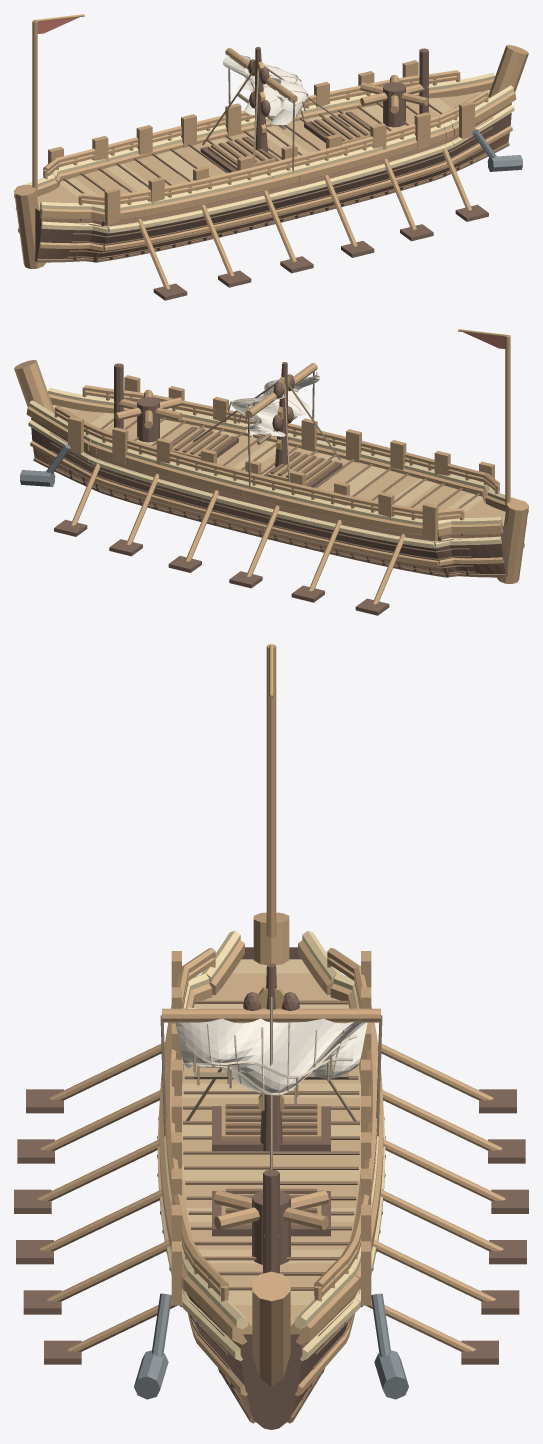
The model's file is kobaya-v5.glb.
3 views of the same model, one above another, from view 1: azimuth 30°, elevation 25°; view 2: azimuth 150°, elevation 25°; view 3: azimuth 270°, elevation 25° (orthographic). The views are drawn at different scales.
Parts seen in each view (by area): view 1: kobaya_hull_wood, kobaya_hull_pale, kobaya_railings_wood, kobaya_ornament_wood, kobaya_hull_seam, kobaya_hull_darkwood, kobaya_hull_deck, kobaya_hull_hull, kobaya_oars_wood, kobaya_hull_decklight, kobaya_oars_darkwood, kobaya_fittings_wood (+10 smaller); view 2: kobaya_hull_wood, kobaya_hull_pale, kobaya_railings_wood, kobaya_ornament_wood, kobaya_hull_seam, kobaya_hull_darkwood, kobaya_hull_deck, kobaya_hull_hull, kobaya_oars_wood, kobaya_hull_decklight, kobaya_oars_darkwood, kobaya_fittings_wood (+11 smaller); view 3: kobaya_hull_wood, kobaya_oars_wood, kobaya_hull_deck, kobaya_oars_darkwood, kobaya_sails_ivory, kobaya_hull_decklight, kobaya_hull_seam, kobaya_hull_pale, kobaya_ornament_wood, kobaya_railings_wood, kobaya_hull_darkwood, kobaya_fittings_darkwood (+9 smaller).
Part boxes in pixels (<box>): kobaya_hull_wood: <box>14,45,528,268</box>; kobaya_hull_pale: <box>15,72,514,233</box>; kobaya_railings_wood: <box>43,70,488,205</box>; kobaya_ornament_wood: <box>48,60,474,225</box>; kobaya_hull_seam: <box>36,102,509,262</box>; kobaya_hull_darkwood: <box>35,113,511,262</box>; kobaya_hull_deck: <box>37,93,477,204</box>; kobaya_hull_hull: <box>37,89,511,259</box>; kobaya_oars_wood: <box>138,144,471,289</box>; kobaya_hull_decklight: <box>38,90,490,219</box>; kobaya_oars_darkwood: <box>153,204,488,300</box>; kobaya_fittings_wood: <box>208,74,428,170</box>; kobaya_hull_wood: <box>14,360,528,583</box>; kobaya_hull_pale: <box>28,387,527,548</box>; kobaya_railings_wood: <box>54,385,499,520</box>; kobaya_ornament_wood: <box>68,375,494,540</box>; kobaya_hull_seam: <box>33,417,506,577</box>; kobaya_hull_darkwood: <box>31,428,507,577</box>; kobaya_hull_deck: <box>65,408,505,519</box>; kobaya_hull_hull: <box>31,404,505,574</box>; kobaya_oars_wood: <box>71,459,404,604</box>; kobaya_hull_decklight: <box>52,405,504,534</box>; kobaya_oars_darkwood: <box>54,519,389,615</box>; kobaya_fittings_wood: <box>114,389,334,485</box>; kobaya_hull_wood: <box>159,912,383,1396</box>; kobaya_oars_wood: <box>37,1042,505,1351</box>; kobaya_hull_deck: <box>182,973,360,1325</box>; kobaya_oars_darkwood: <box>14,1089,528,1364</box>; kobaya_sails_ivory: <box>175,1007,367,1094</box>; kobaya_hull_decklight: <box>182,959,360,1304</box>; kobaya_hull_seam: <box>182,1000,360,1423</box>; kobaya_hull_pale: <box>157,931,385,1361</box>; kobaya_ornament_wood: <box>171,951,371,1305</box>; kobaya_railings_wood: <box>165,948,377,1301</box>; kobaya_hull_darkwood: <box>194,947,348,1429</box>; kobaya_fittings_darkwood: <box>212,1106,330,1264</box>.
Bounding box in the file's own units: 31.18 × 14.44 × 16.2.
